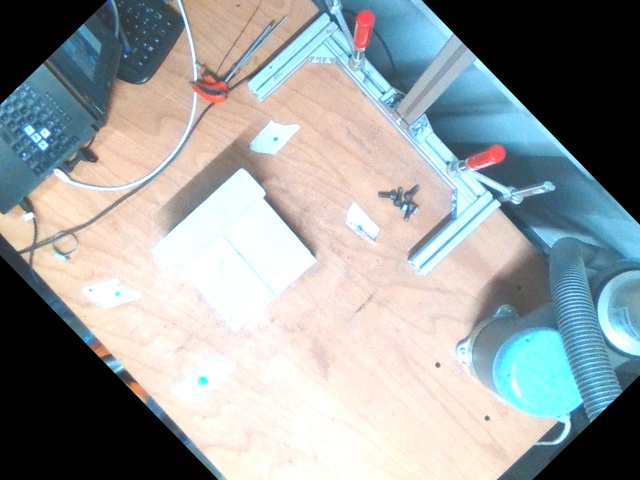brick-side: (150, 168, 262, 274)
